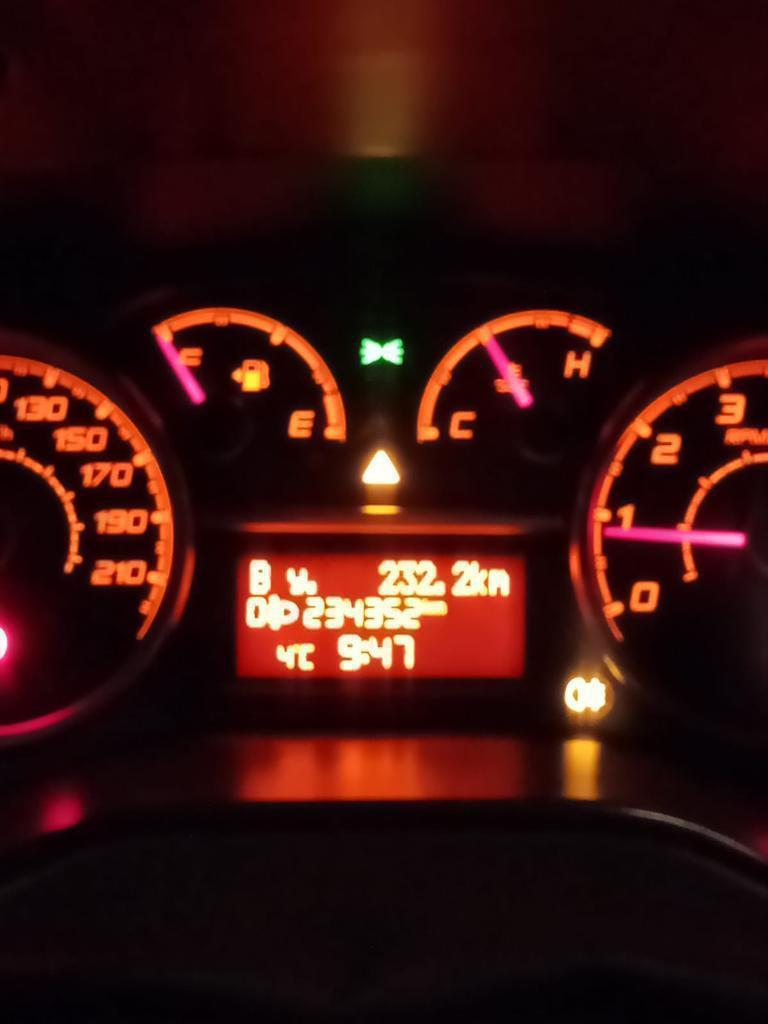,: (435, 580, 445, 597), (307, 578, 316, 595)
0: (243, 595, 267, 630)
2: (449, 558, 471, 597), (375, 558, 398, 595), (301, 595, 323, 630), (402, 597, 422, 630), (418, 558, 435, 596)
3: (324, 594, 344, 630), (398, 559, 417, 596), (364, 595, 383, 630)
4: (368, 634, 391, 670), (343, 596, 363, 629), (274, 642, 294, 671)
5: (383, 596, 401, 630)
7: (393, 632, 417, 671)
9: (336, 632, 360, 672)
X: (248, 557, 272, 596), (283, 564, 307, 596), (488, 567, 511, 597), (471, 558, 488, 598), (297, 640, 316, 672), (433, 599, 447, 616), (361, 637, 368, 667), (422, 598, 433, 616)
odometer: (224, 541, 531, 685)
